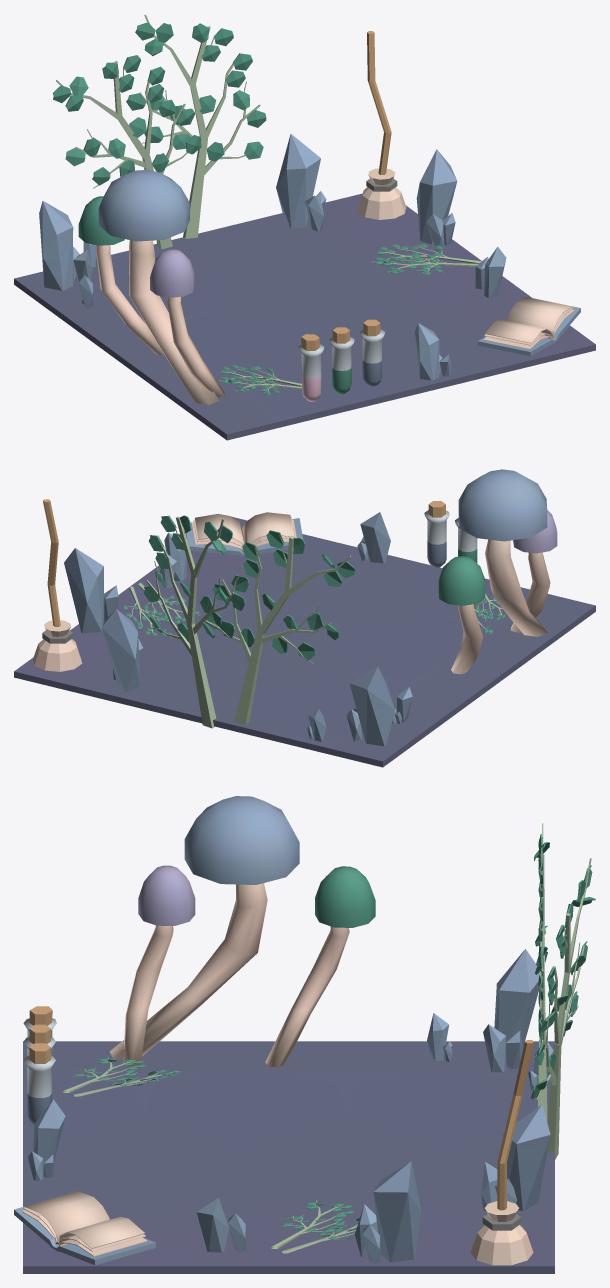
File: meta3.glb
The picture shows the model from 3 angles, top to bottom: view 1: azimuth 30°, elevation 25°; view 2: azimuth 150°, elevation 25°; view 3: azimuth 270°, elevation 25°; orthographic projection. The views are drawn at different scales.
Parts seen in each view (by area): view 1: Cube.047; view 2: Cube.047; view 3: Cube.047.
Part boxes in pixels (x1,y1,x2,y2): Cube.047: [14, 14, 595, 440]; Cube.047: [14, 469, 595, 767]; Cube.047: [14, 796, 595, 1273].
Size of the model in its own units: 4.01 by 2.08 by 3.88.
Materials: 1 (1 with a texture image).
